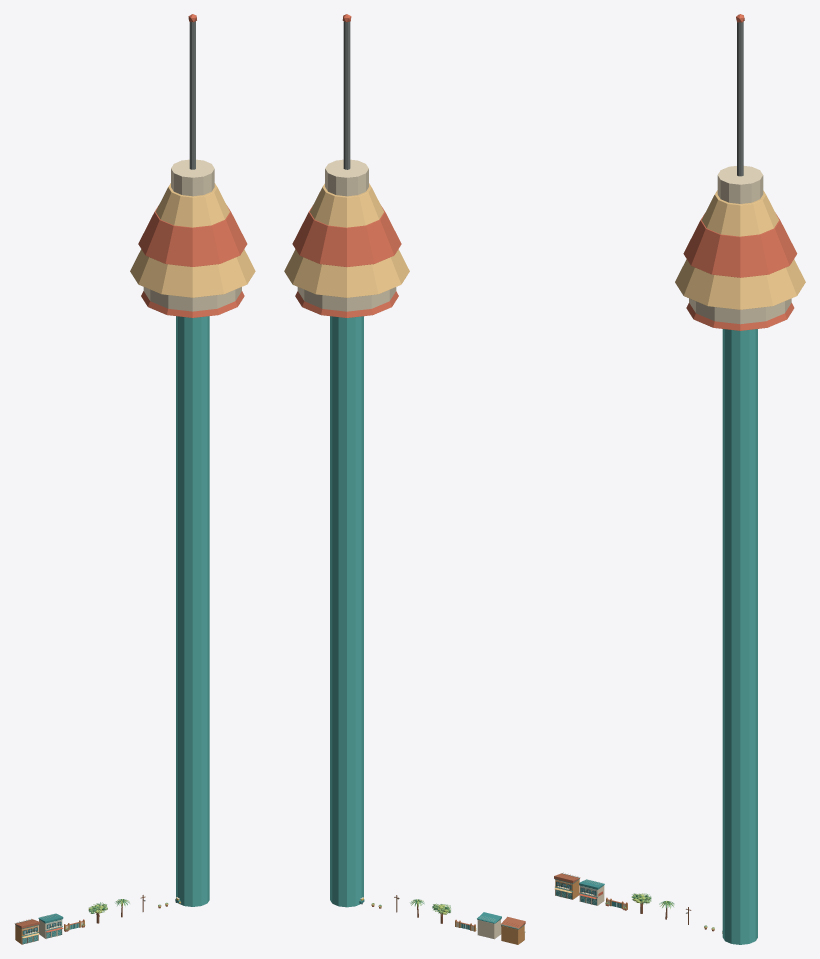
The model's file is colombo_scenery_kit.glb.
3 renders of one model, left to right at view 1: azimuth 30°, elevation 25°; view 2: azimuth 150°, elevation 25°; view 3: azimuth 330°, elevation 25°, orthographic. The views are drawn at different scales.
Visible parts, largest first — view 1: LotusTower_TealLight, LotusTower_OchreLight, LotusTower_Coral, LotusTower_Cream, LotusTower_Metal; view 2: LotusTower_TealLight, LotusTower_OchreLight, LotusTower_Coral, LotusTower_Cream, LotusTower_Metal; view 3: LotusTower_TealLight, LotusTower_OchreLight, LotusTower_Coral, LotusTower_Cream, LotusTower_Metal.
Boxes of the visible parts, bbox=[...] form: LotusTower_TealLight: bbox=[176, 316, 209, 906]; LotusTower_OchreLight: bbox=[130, 183, 255, 297]; LotusTower_Coral: bbox=[138, 14, 247, 317]; LotusTower_Cream: bbox=[143, 159, 241, 311]; LotusTower_Metal: bbox=[189, 21, 195, 169]; LotusTower_TealLight: bbox=[330, 316, 363, 907]; LotusTower_OchreLight: bbox=[284, 183, 409, 297]; LotusTower_Coral: bbox=[292, 14, 401, 317]; LotusTower_Cream: bbox=[297, 159, 396, 311]; LotusTower_Metal: bbox=[343, 21, 350, 169]; LotusTower_TealLight: bbox=[722, 329, 757, 944]; LotusTower_OchreLight: bbox=[675, 190, 805, 309]; LotusTower_Coral: bbox=[683, 14, 797, 330]; LotusTower_Cream: bbox=[689, 166, 791, 324]; LotusTower_Metal: bbox=[737, 21, 743, 176].
Bounding box in the file's own units: 96.85 × 357 × 45.95.
